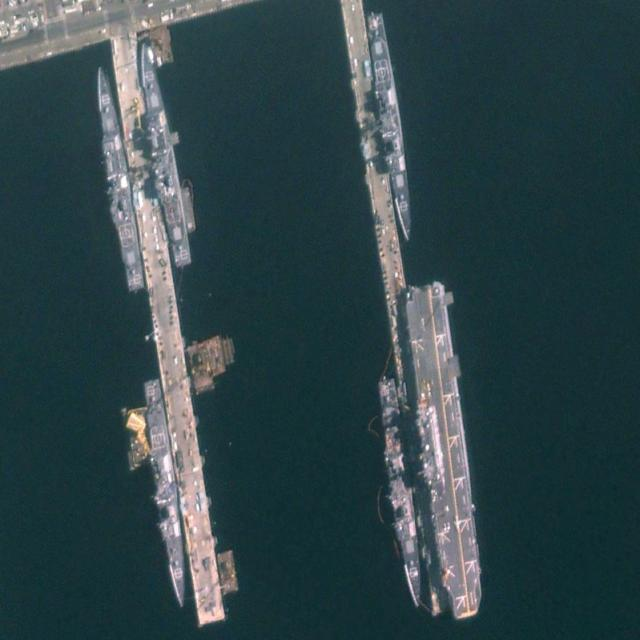Cruiser: (86, 61, 147, 293), (132, 38, 192, 270), (137, 376, 194, 612), (363, 11, 418, 244), (374, 375, 426, 611)
Landing: (395, 276, 494, 625)
